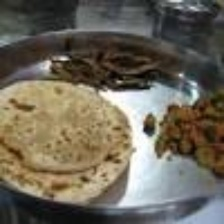sabzi: (48, 45, 164, 93)
